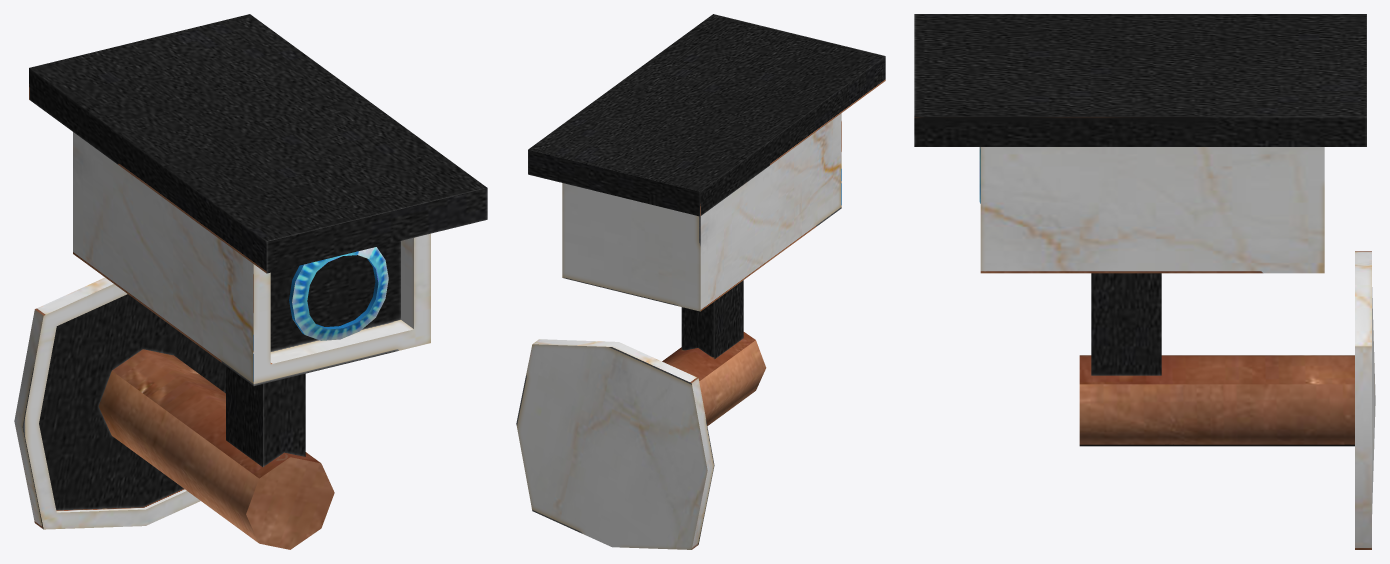
Rendered from MiniCCTV.fbx.
3 views of the same model, side by side, from view 1: azimuth 30°, elevation 25°; view 2: azimuth 150°, elevation 25°; view 3: azimuth 270°, elevation 25° (orthographic). The views are drawn at different scales.
Parts seen in each view (by area): view 1: Cube.001; view 2: Cube.001; view 3: Cube.001.
Part boxes in pixels (left/top/right/bottom): Cube.001: left=14, top=14, right=487, bottom=549; Cube.001: left=516, top=14, right=885, bottom=549; Cube.001: left=914, top=14, right=1375, bottom=549.
Size of the model in its own units: 91.87 by 172 by 157.
1 material, 1 textured.
